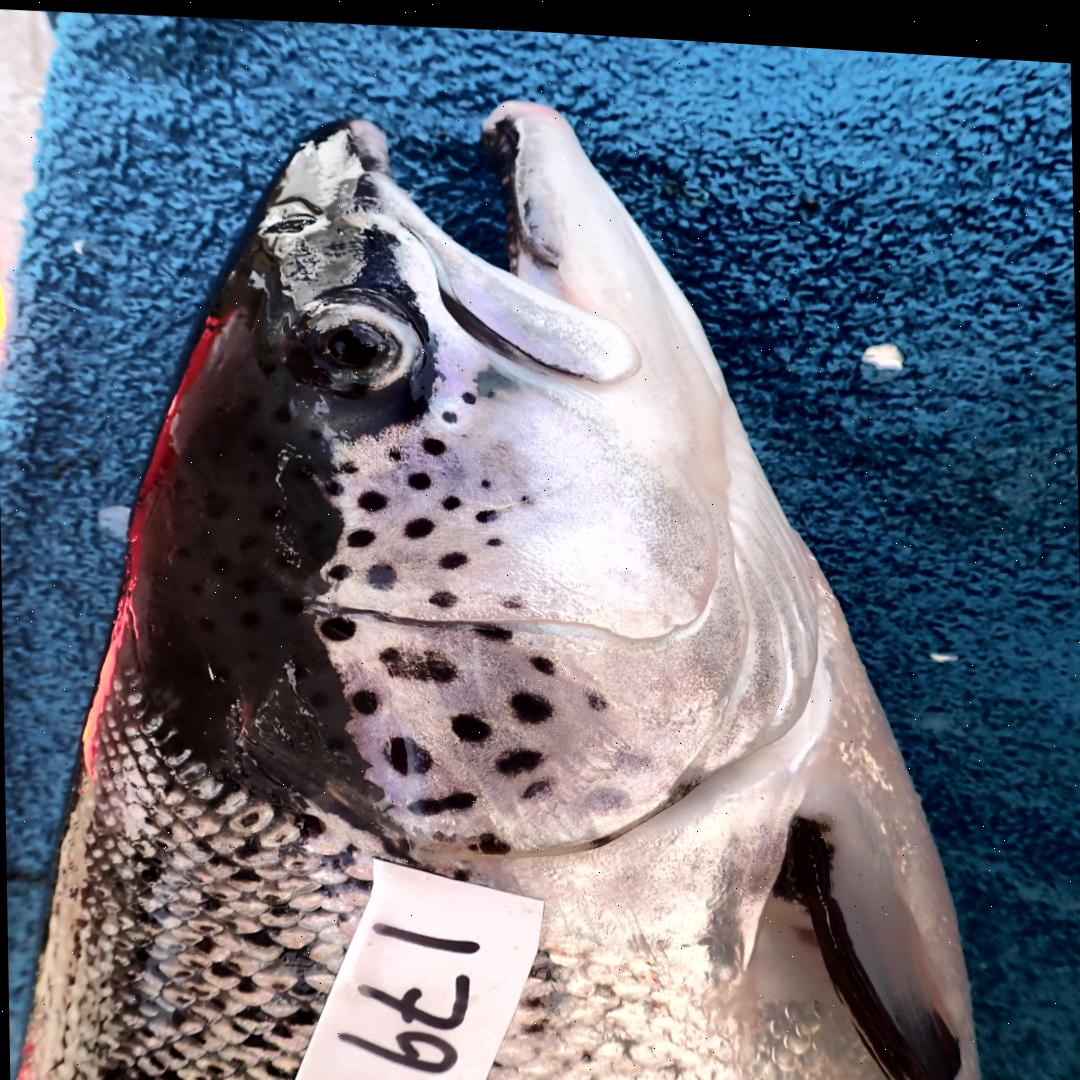spot: (380, 643, 456, 677), (610, 735, 663, 774), (385, 733, 432, 771), (585, 779, 635, 813), (409, 786, 476, 811), (493, 743, 543, 770), (510, 686, 551, 717), (451, 709, 490, 736), (318, 612, 356, 637), (468, 826, 509, 849), (520, 770, 555, 795), (367, 559, 396, 585), (351, 686, 378, 710), (473, 619, 511, 635), (404, 514, 433, 534), (357, 486, 386, 506), (430, 820, 459, 840), (324, 474, 345, 500), (346, 525, 375, 543), (440, 546, 469, 563), (429, 585, 455, 603), (529, 649, 553, 667), (406, 467, 430, 485), (499, 591, 523, 609), (586, 686, 607, 704), (423, 433, 444, 451), (512, 486, 533, 503), (326, 560, 349, 575), (474, 505, 498, 516), (341, 457, 359, 470), (388, 443, 403, 458), (442, 491, 459, 504), (460, 385, 475, 399), (440, 407, 455, 418), (486, 531, 501, 540), (479, 474, 491, 483)
